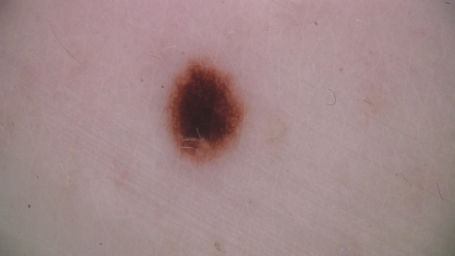melanoma: (163, 57, 247, 166)
